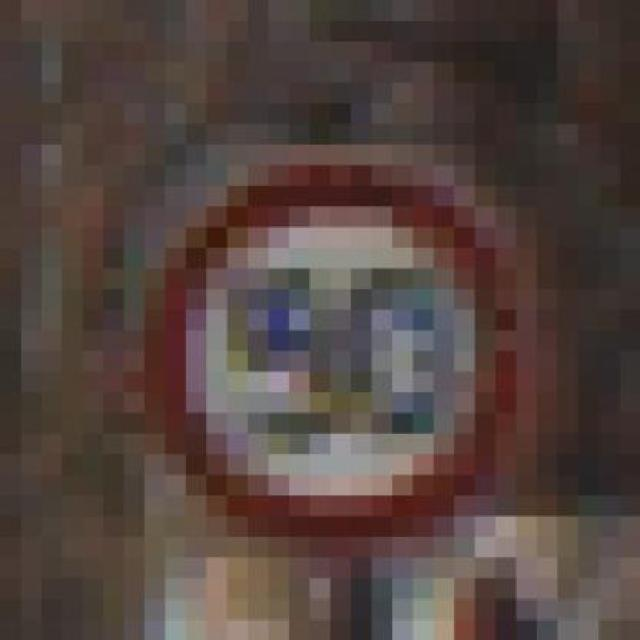50 mph speed limit: (103, 124, 537, 558)
